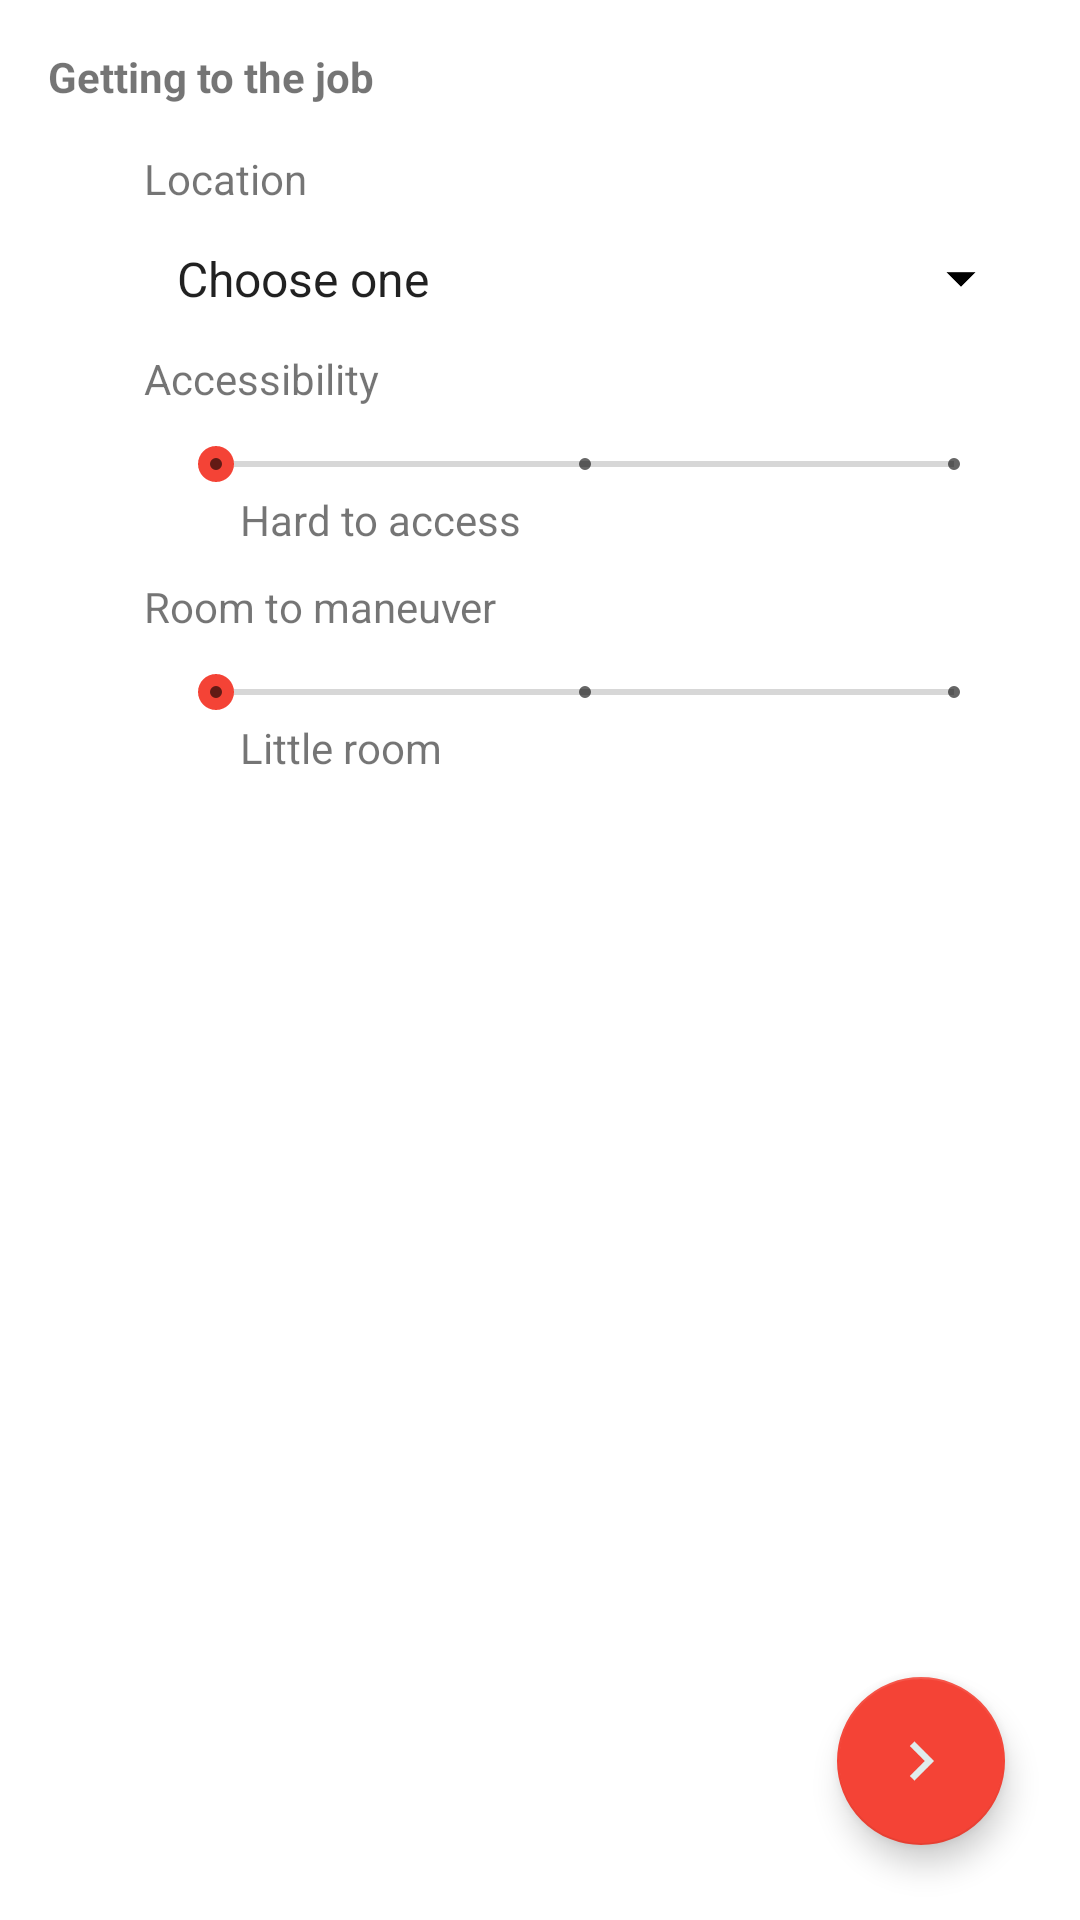

Screen size 1080px×1920px. Icon name, then its box in pixels as Rect(x1, y1, x2, y2):
right arrow: Rect(837, 1677, 1005, 1845)
